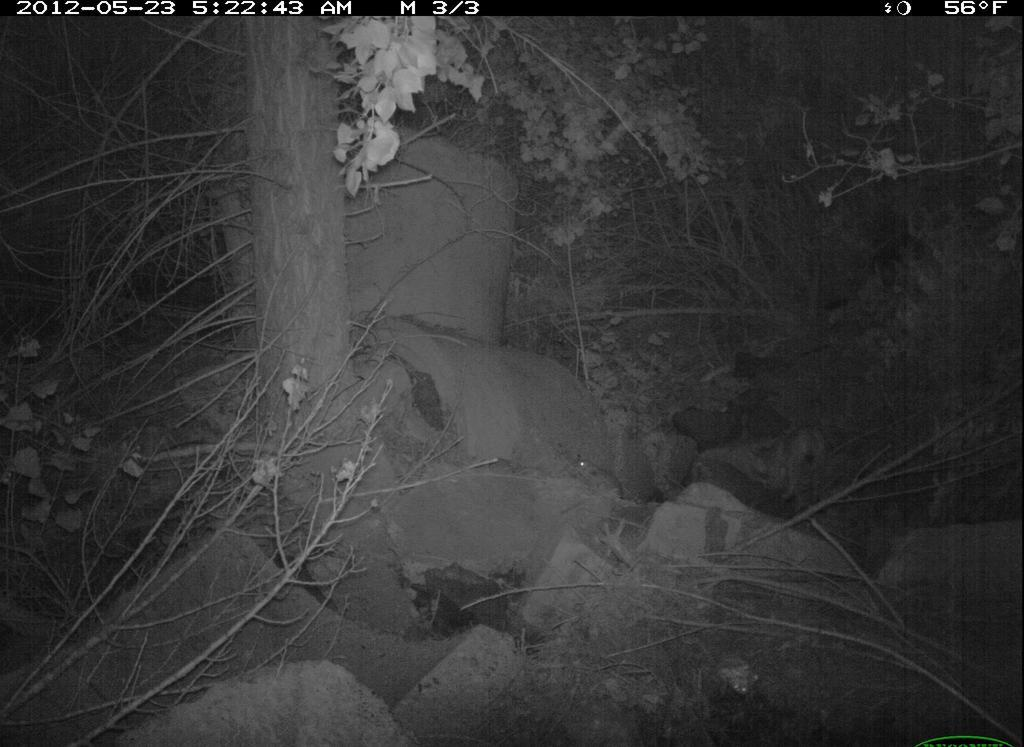bobcat: (741, 413, 835, 515)
rodent: (564, 454, 636, 510)
